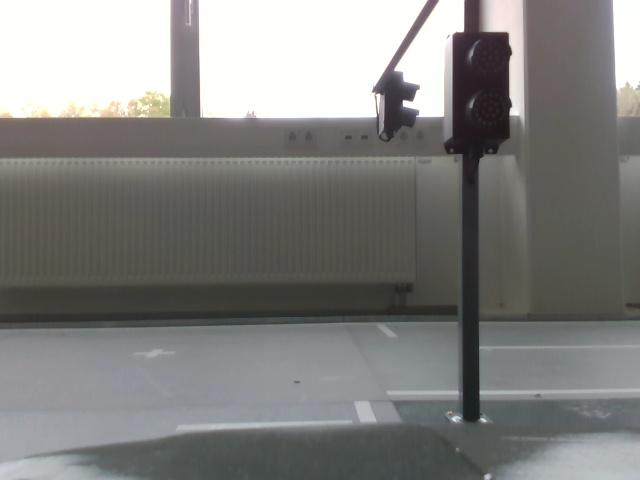traffic light: (449, 30, 516, 157), (370, 75, 416, 138)
